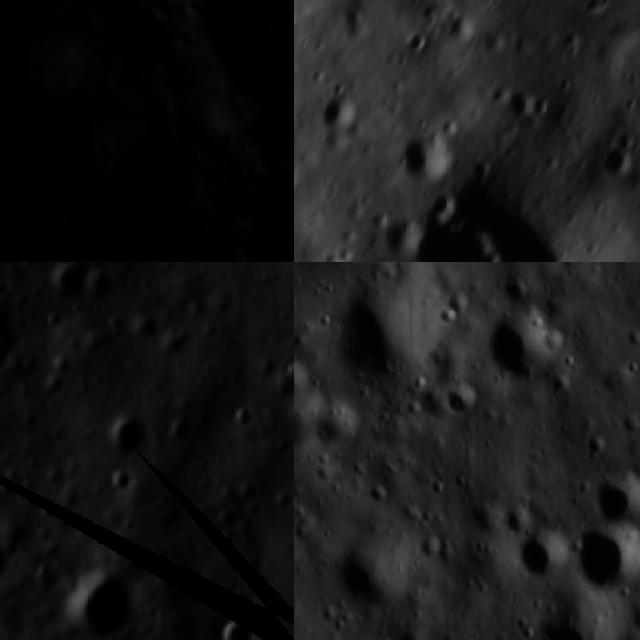crater: (348, 169, 530, 262), (331, 266, 425, 384), (381, 110, 469, 198), (481, 304, 570, 390), (332, 528, 410, 618), (61, 563, 139, 640), (566, 523, 640, 602), (304, 399, 364, 456), (512, 525, 567, 587), (587, 473, 640, 532), (584, 135, 640, 189), (531, 606, 613, 640), (488, 80, 539, 131), (105, 411, 151, 457), (439, 379, 481, 425), (46, 262, 95, 300), (393, 24, 435, 67), (212, 610, 267, 640), (294, 406, 321, 463), (101, 466, 140, 500), (0, 537, 19, 603), (159, 411, 191, 449), (294, 352, 313, 408), (228, 401, 258, 433), (0, 305, 13, 356), (400, 262, 437, 273), (133, 262, 169, 272), (0, 273, 11, 304)
